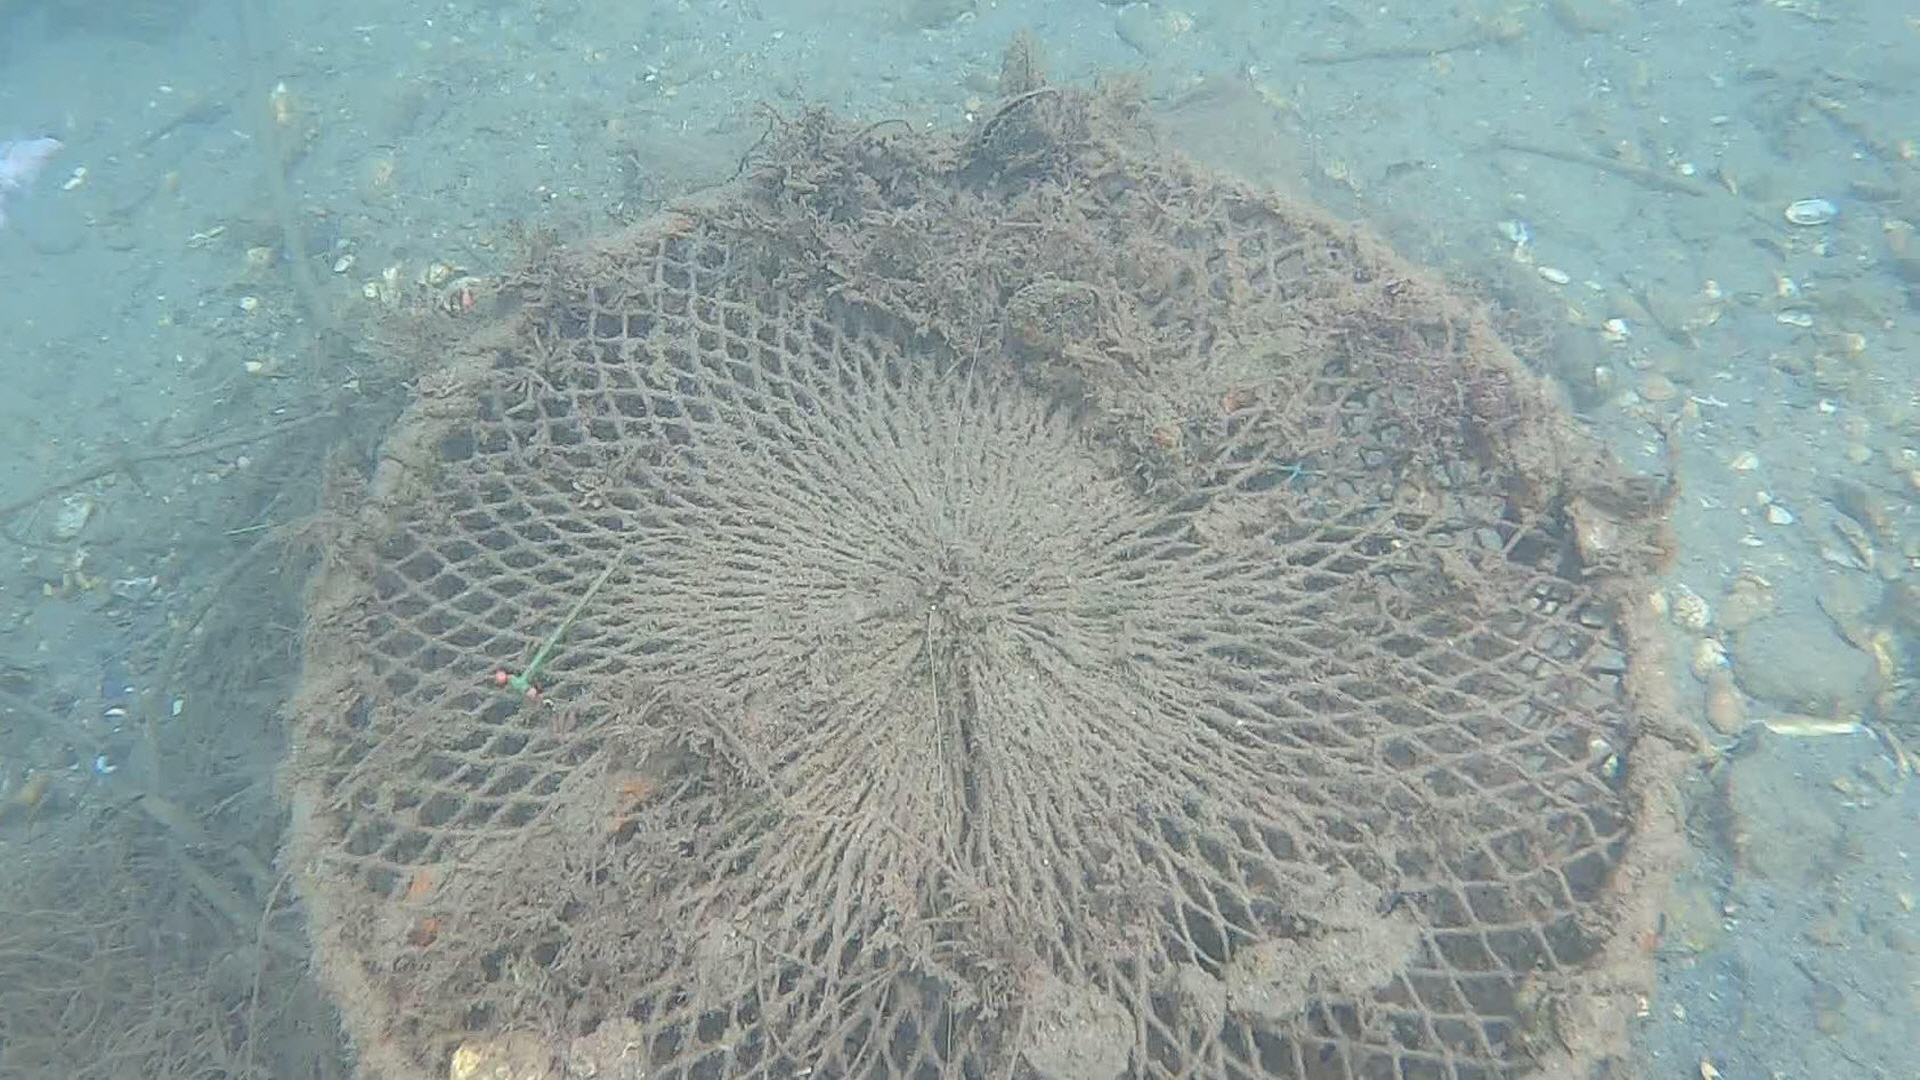circular fish trap: (281, 149, 1691, 1080)
